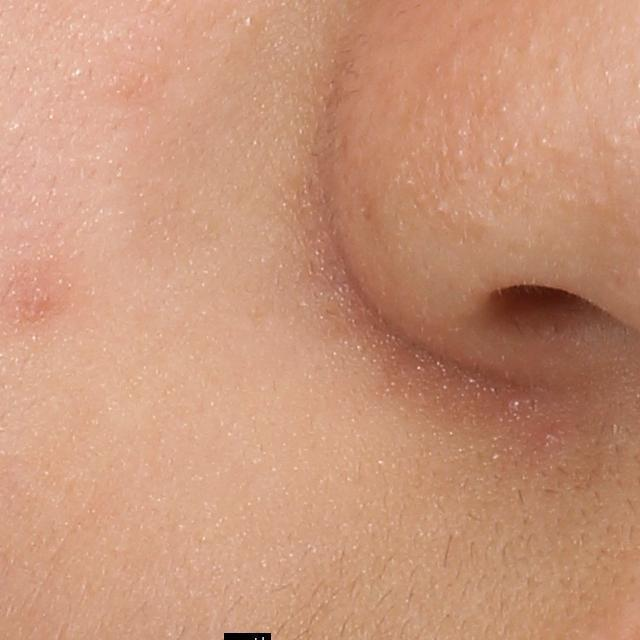comedo: (595, 127, 624, 155), (472, 147, 498, 177), (493, 175, 513, 204), (561, 189, 581, 214), (449, 167, 471, 186), (534, 129, 550, 154), (494, 99, 512, 116)
